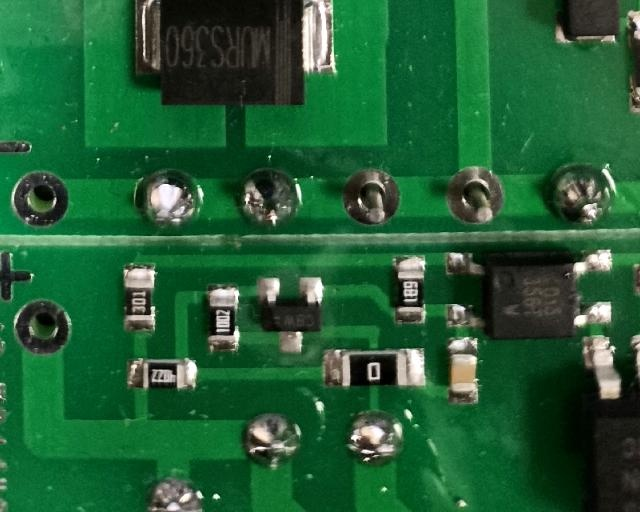chip-capacitor: (447, 337, 480, 406)
chip-resistor: (323, 345, 431, 389), (204, 281, 244, 356), (120, 261, 159, 332), (129, 355, 198, 394), (393, 256, 430, 327)
diode: (130, 0, 343, 109)
ic: (444, 250, 616, 335)
transistor: (257, 272, 327, 356)
